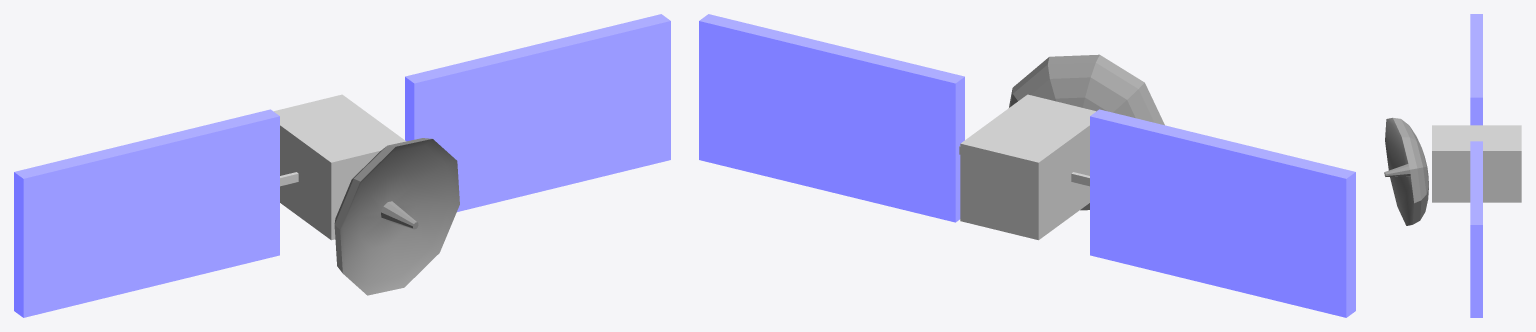
Rendered from satellite.fbx.
3 views of the same model, side by side, from view 1: azimuth 30°, elevation 25°; view 2: azimuth 150°, elevation 25°; view 3: azimuth 270°, elevation 25° (orthographic). The views are drawn at different scales.
Visible parts, largest first — view 1: Satelitte; view 2: Satelitte; view 3: Satelitte.
Boxes of the visible parts, x1=… form: Satelitte: x1=14, y1=14, x2=670, y2=317; Satelitte: x1=699, y1=14, x2=1355, y2=317; Satelitte: x1=1384, y1=14, x2=1521, y2=317.
Size of the model in its own units: 7.13 by 1.63 by 1.96.
